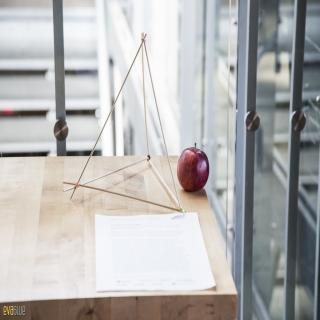Apple: (177, 142, 212, 193)
